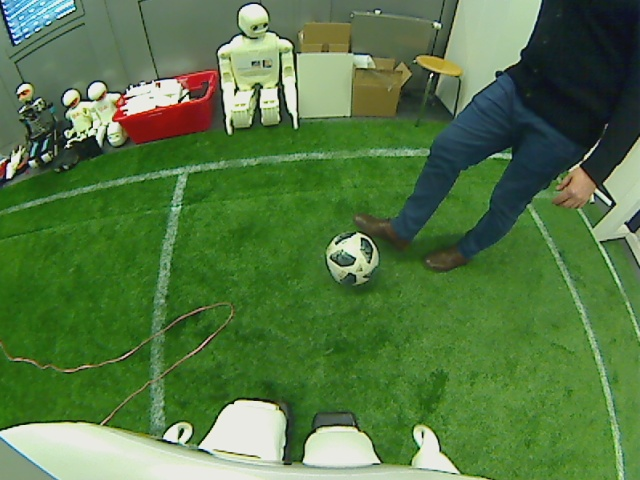ball: (324, 228, 380, 289)
